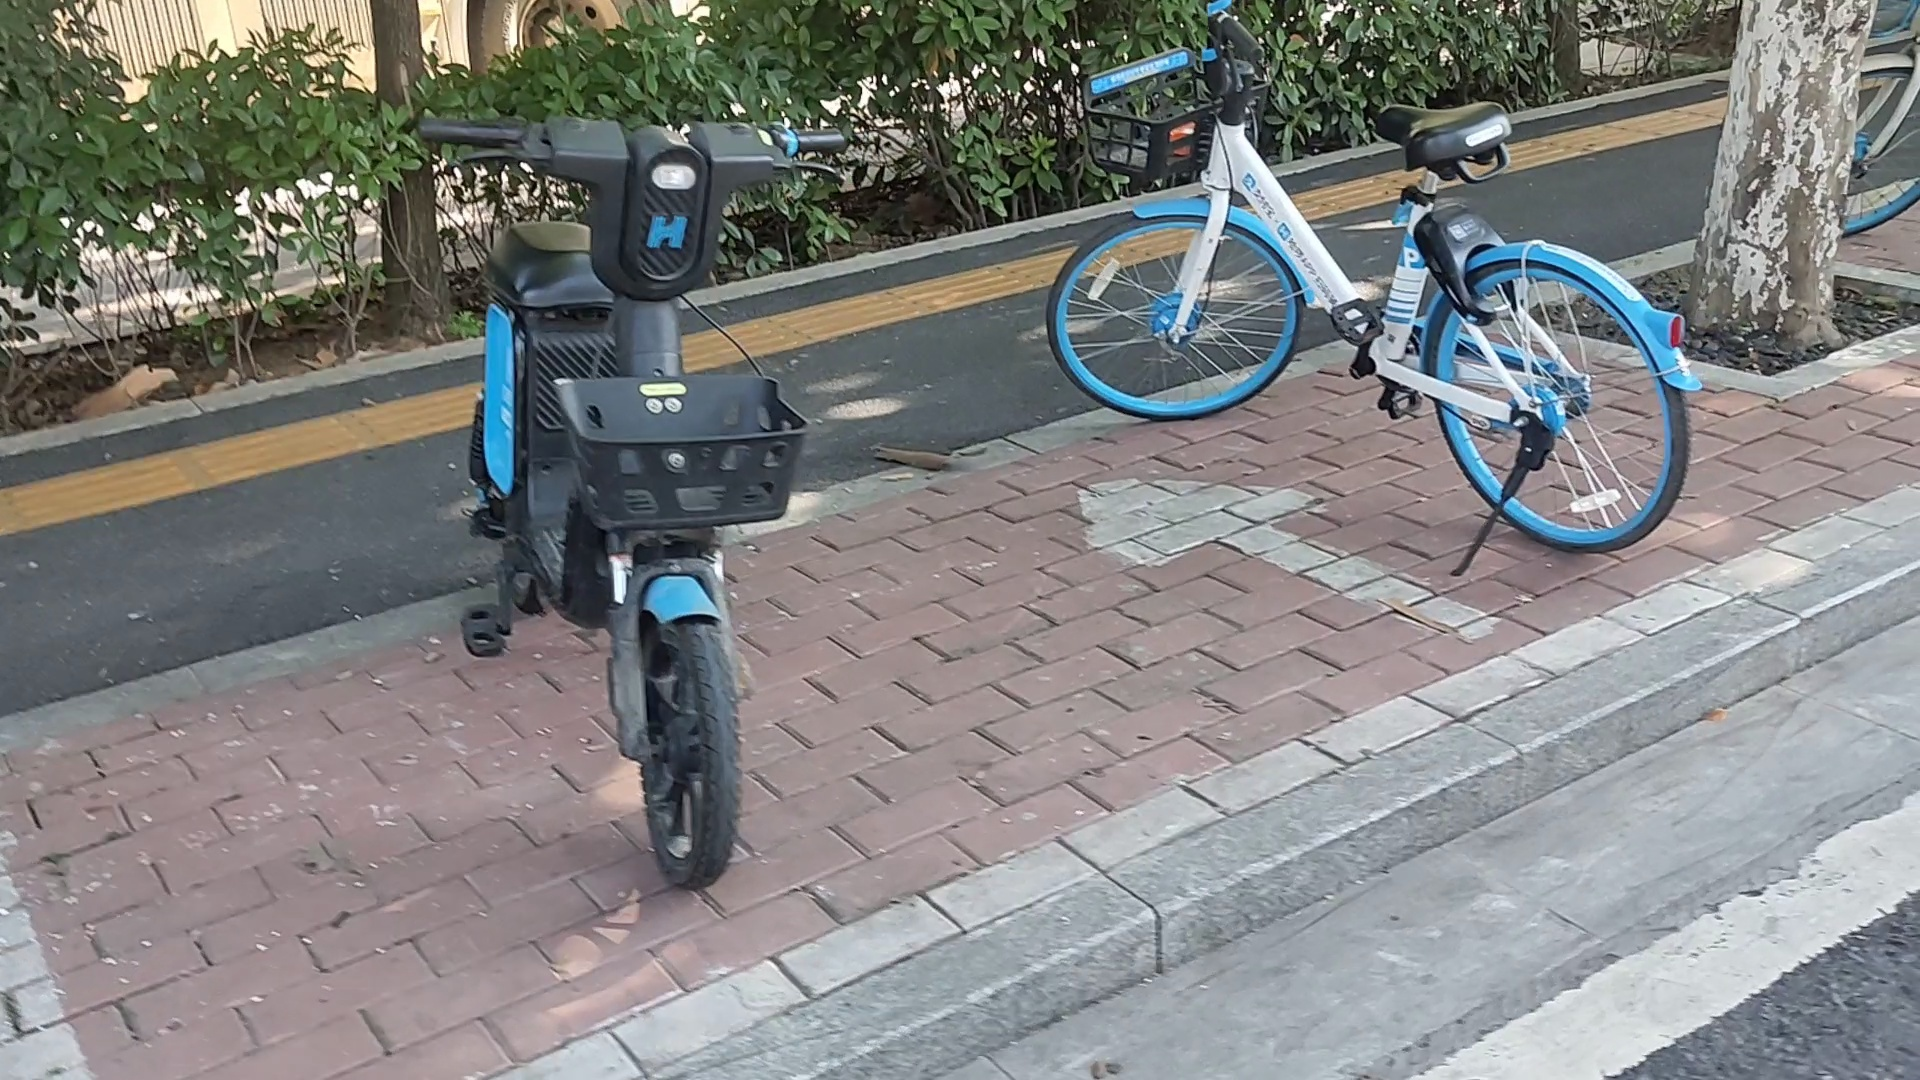non-vehicle: (1035, 7, 1698, 574), (436, 74, 847, 913)
